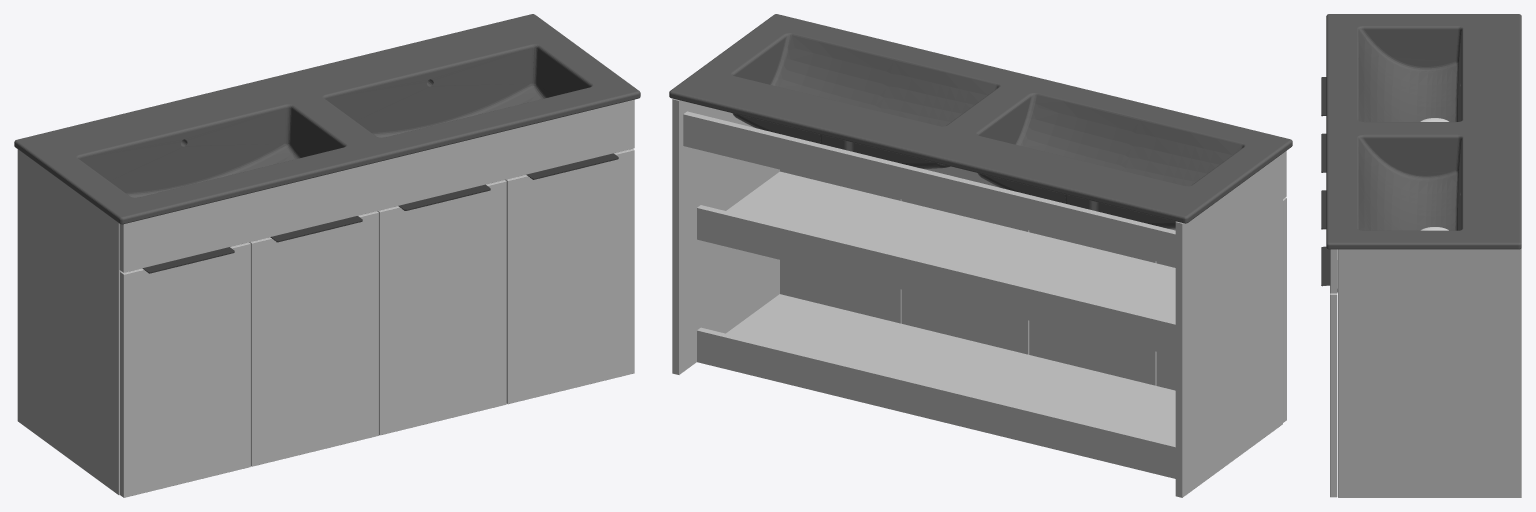
Rendered from AEC_47541.glb.
3 views of the same model, side by side, from view 1: azimuth 30°, elevation 25°; view 2: azimuth 150°, elevation 25°; view 3: azimuth 270°, elevation 25° (orthographic). The views are drawn at different scales.
Parts seen in each view (by area): view 1: 0; view 2: 0; view 3: 0.
Boxes of the visible parts, bbox=[...] form: 0: bbox=[14, 14, 640, 497]; 0: bbox=[669, 14, 1292, 497]; 0: bbox=[1321, 14, 1521, 497].
Size of the model in its own units: 1.2 by 0.6221 by 0.4414.
1 material, 1 textured.
